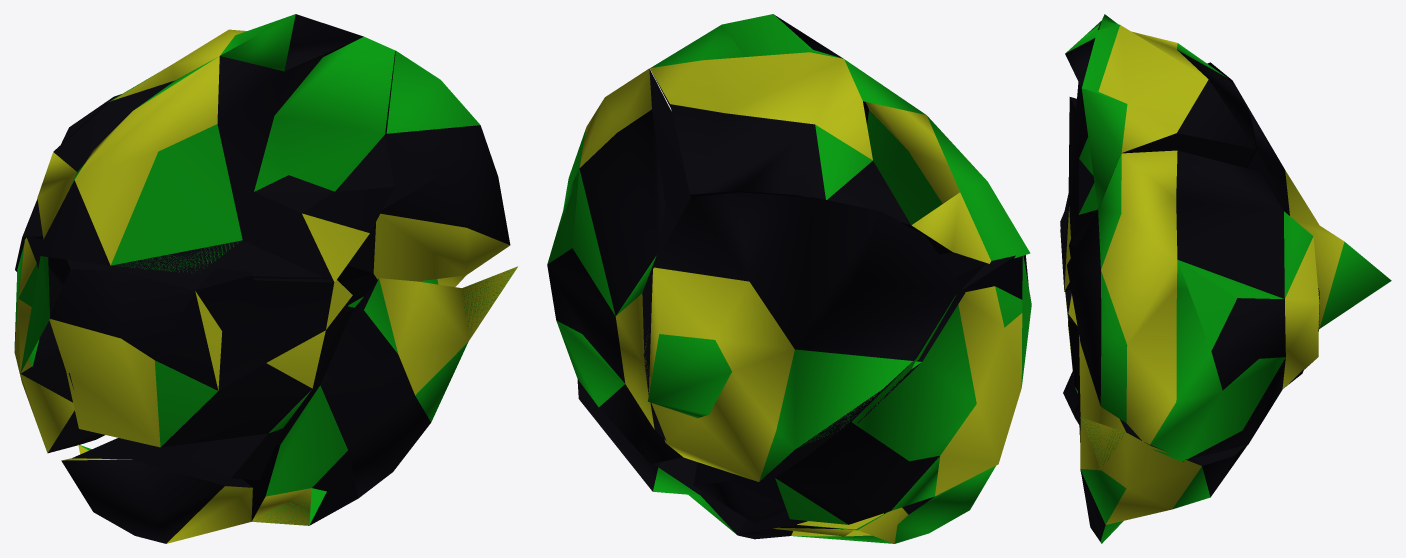
Rendered from spiner2_destroy.glb.
The picture shows the model from 3 angles, left to right: view 1: azimuth 30°, elevation 25°; view 2: azimuth 150°, elevation 25°; view 3: azimuth 270°, elevation 25°; orthographic projection. The views are drawn at different scales.
Parts seen in each view (by area): view 1: fragment_06, fragment_04, fragment_05, fragment_02, fragment_03, fragment_01, fragment_07; view 2: fragment_07, fragment_06, fragment_01, fragment_02, fragment_03, fragment_05, fragment_04; view 3: fragment_02, fragment_06, fragment_05, fragment_07, fragment_04.
Boxes of the visible parts, left/top/right/bottom form: fragment_06: left=35, top=14, right=395, bottom=282; fragment_04: left=49, top=259, right=352, bottom=480; fragment_05: left=243, top=266, right=517, bottom=525; fragment_02: left=337, top=50, right=510, bottom=313; fragment_03: left=61, top=438, right=252, bottom=543; fragment_01: left=14, top=235, right=104, bottom=453; fragment_07: left=15, top=94, right=121, bottom=285; fragment_07: left=643, top=192, right=965, bottom=481; fragment_06: left=650, top=14, right=1030, bottom=264; fragment_01: left=775, top=255, right=1031, bottom=524; fragment_02: left=547, top=68, right=690, bottom=464; fragment_03: left=740, top=466, right=995, bottom=543; fragment_05: left=577, top=378, right=788, bottom=539; fragment_04: left=693, top=255, right=1028, bottom=523; fragment_02: left=1067, top=150, right=1319, bottom=461; fragment_06: left=1060, top=14, right=1255, bottom=291; fragment_05: left=1075, top=331, right=1247, bottom=543; fragment_07: left=1207, top=62, right=1391, bottom=386; fragment_04: left=1060, top=97, right=1079, bottom=422.
Bounding box in the file's own units: 0.0542 × 0.0552 × 0.0337.
